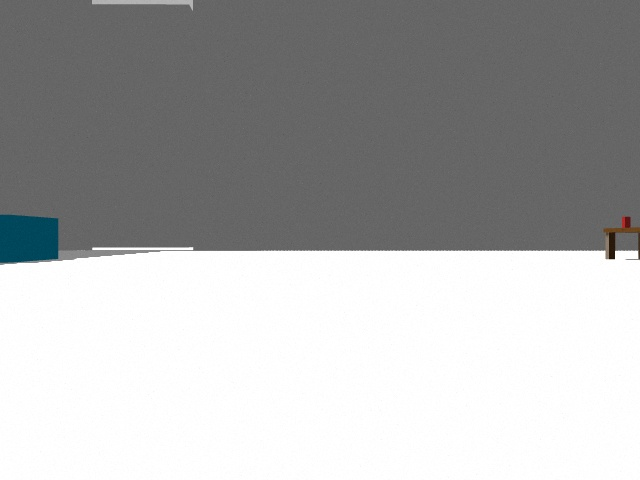blue_drop_zone: (0, 215, 58, 263)
